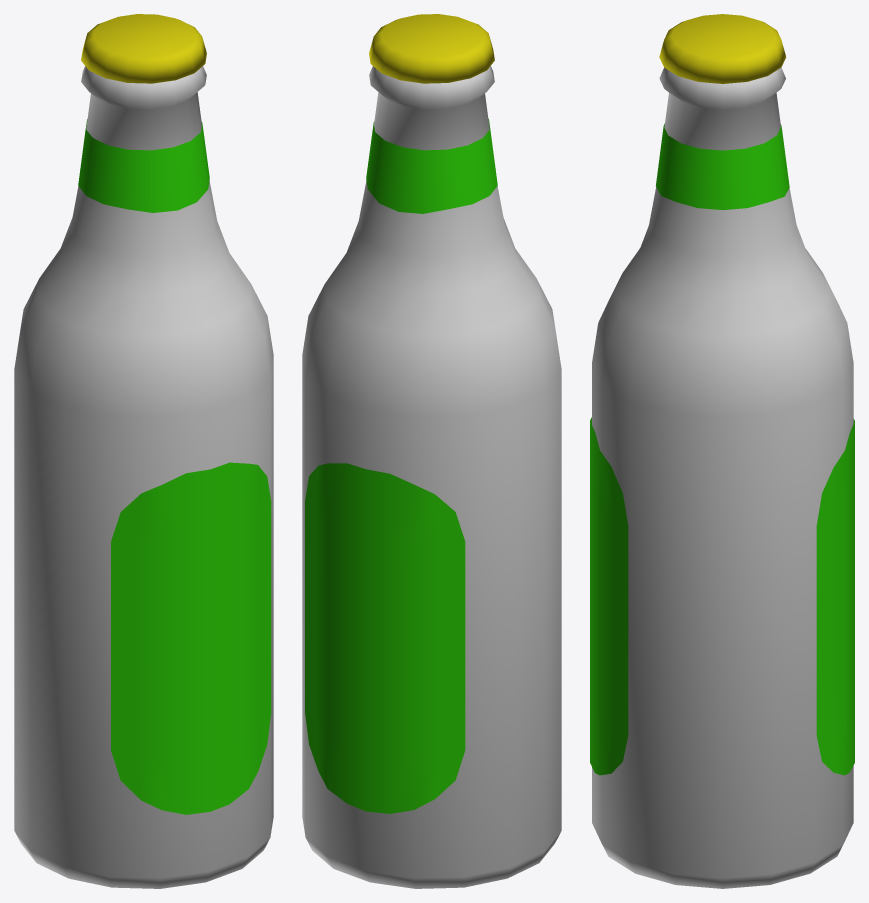
File: BHP_MOD_BOT_Beer.fbx
The picture shows the model from 3 angles, left to right: view 1: azimuth 30°, elevation 25°; view 2: azimuth 150°, elevation 25°; view 3: azimuth 270°, elevation 25°; orthographic projection.
Visible parts, largest first — view 1: BHP_MOD_Bottle_beer; view 2: BHP_MOD_Bottle_beer; view 3: BHP_MOD_Bottle_beer.
Part boxes in pixels (x1,y1,x2,y2): BHP_MOD_Bottle_beer: [14, 14, 273, 888]; BHP_MOD_Bottle_beer: [302, 14, 561, 888]; BHP_MOD_Bottle_beer: [590, 14, 854, 888].
Size of the model in its own units: 0.0683 by 0.2308 by 0.0692.
